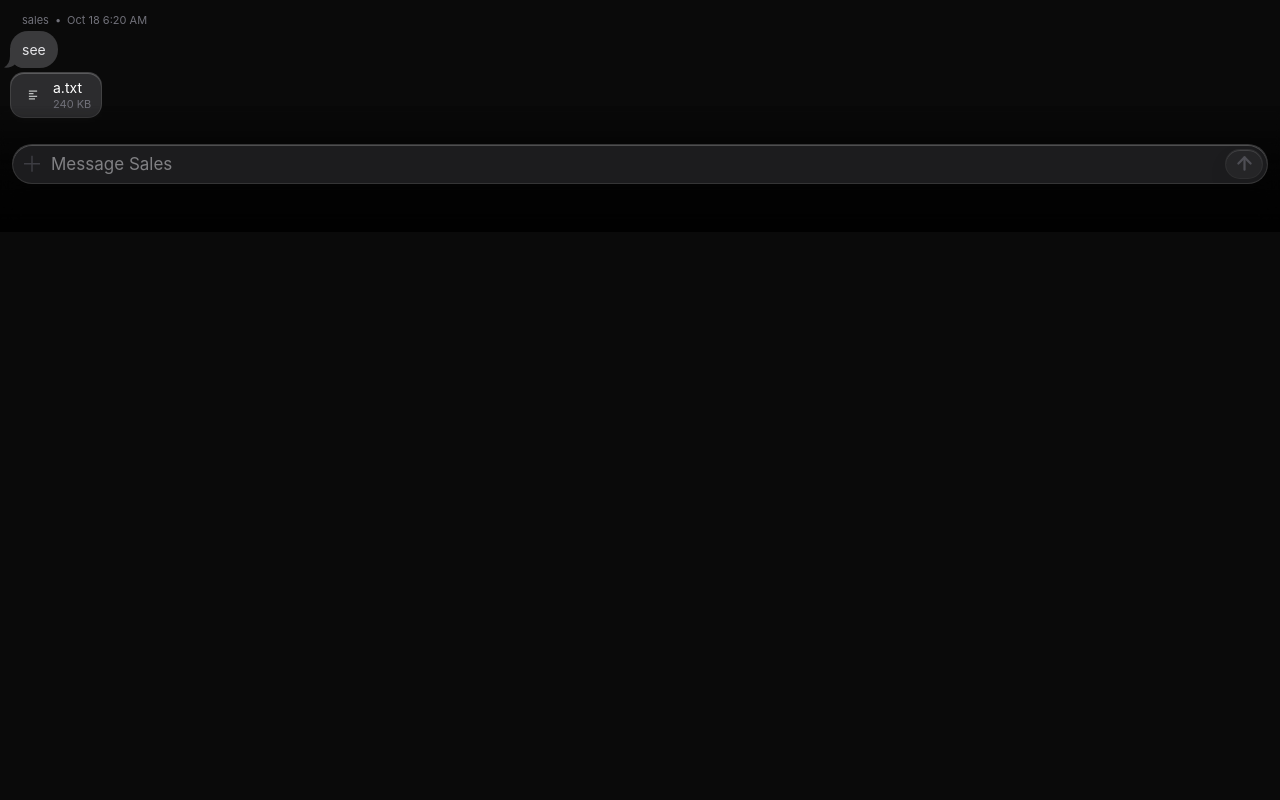
Test case: open › a room on another server opens through that server and its login
Click the button with test id "thread-file": (56, 94) [10,72,102,118]
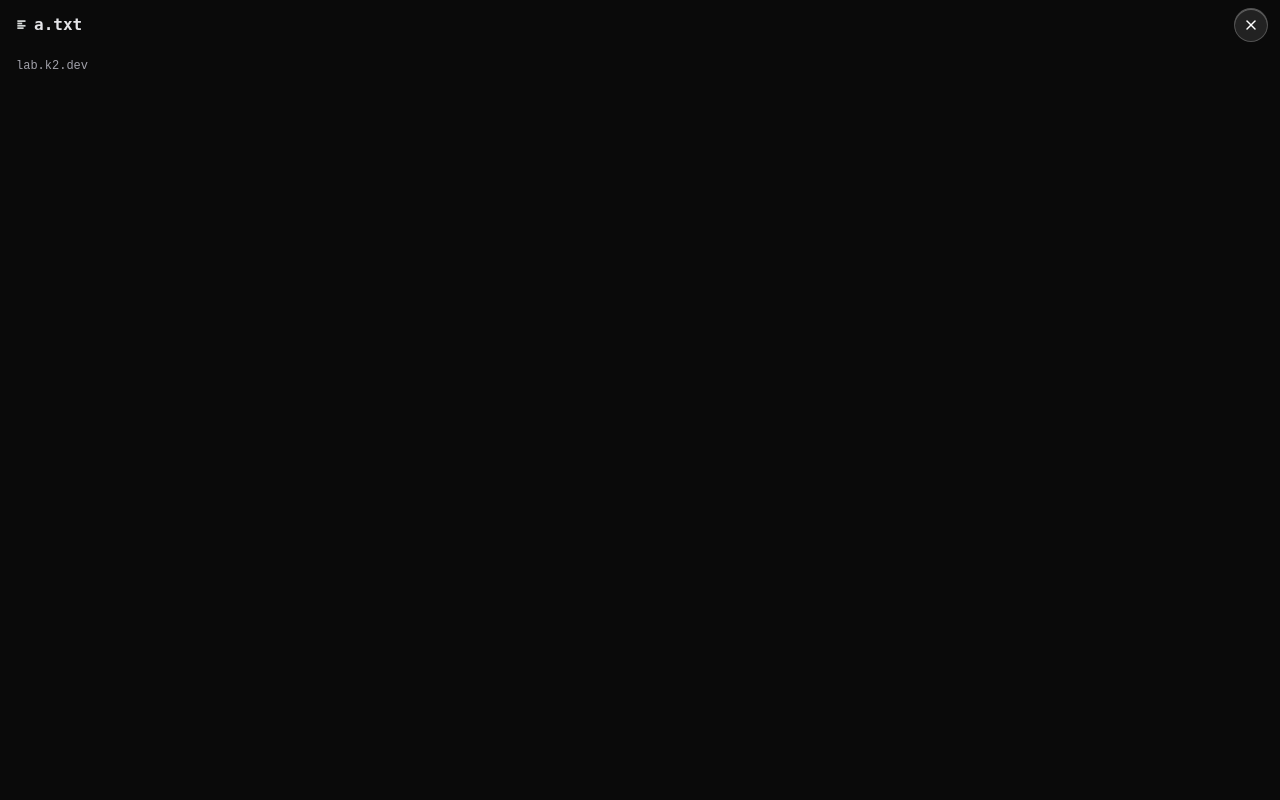
Check: the element with test id "file-code" reads "lab.k2.dev", box [16,59,88,73]
Check: the text "lab.k2.dev" is shown, box [16,59,88,73]
